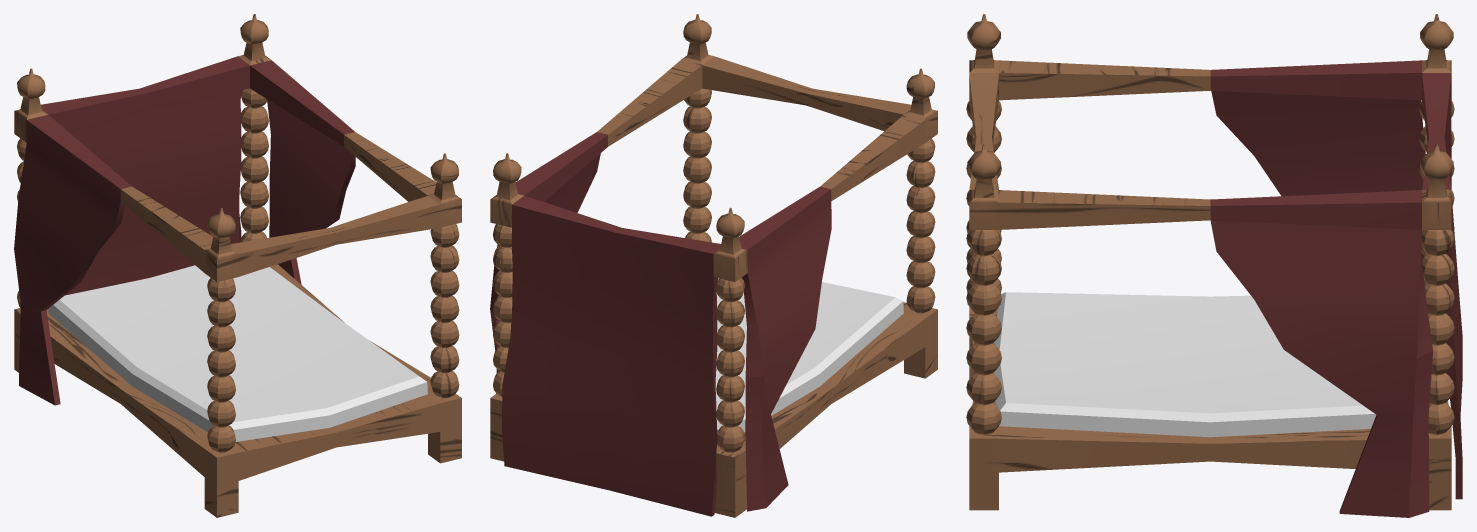
The model's file is bed.fbx.
The picture shows the model from 3 angles, left to right: view 1: azimuth 30°, elevation 25°; view 2: azimuth 150°, elevation 25°; view 3: azimuth 270°, elevation 25°; orthographic projection. The views are drawn at different scales.
Visible parts, largest first — view 1: geo_bed; view 2: geo_bed; view 3: geo_bed.
Part boxes in pixels (box(x1,y1,x2,y2)): geo_bed: box(14, 14, 461, 517); geo_bed: box(490, 14, 937, 517); geo_bed: box(966, 14, 1462, 517).
Bounding box in the file's own units: 636 × 669 × 836.
Materials: 3 (1 with a texture image).
